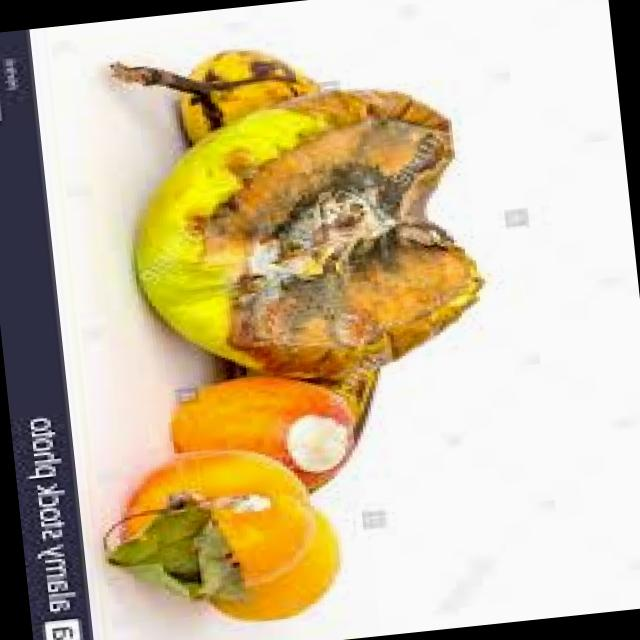organic: (58, 18, 479, 611)
